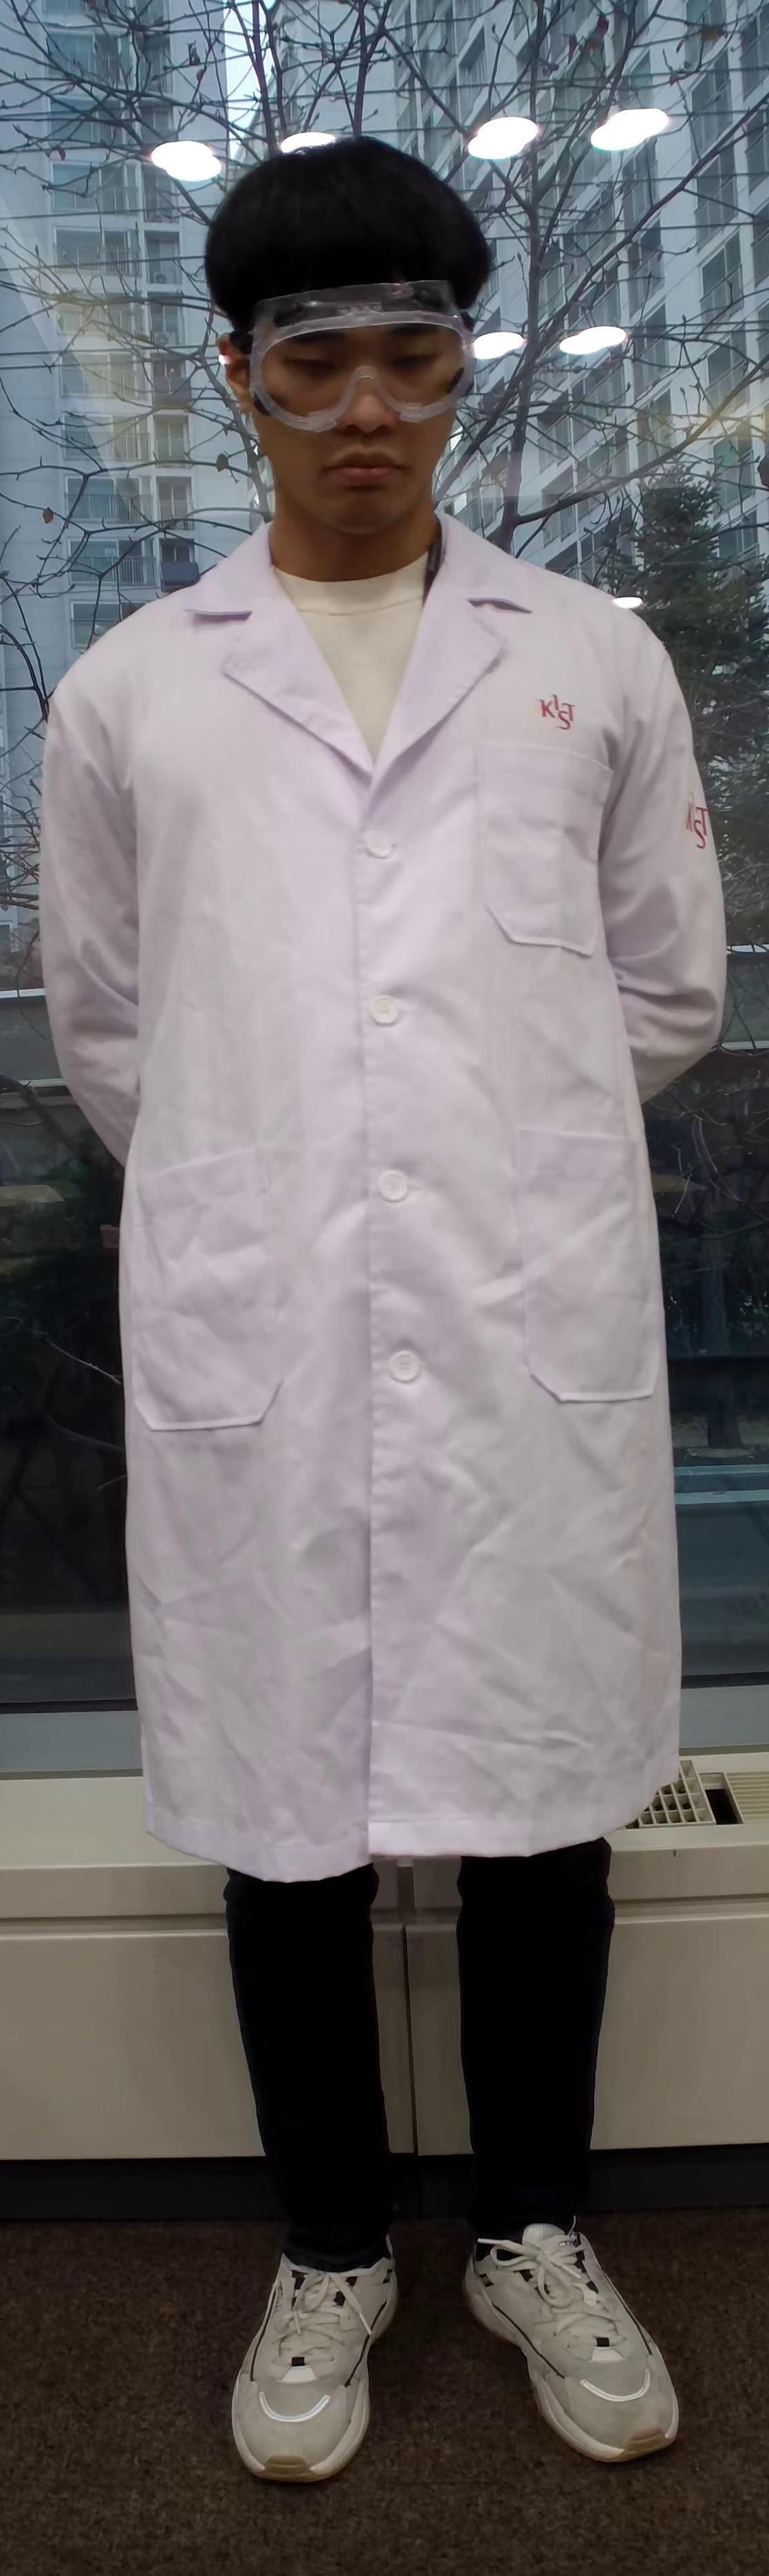lab_coat: (30, 600, 739, 1843)
